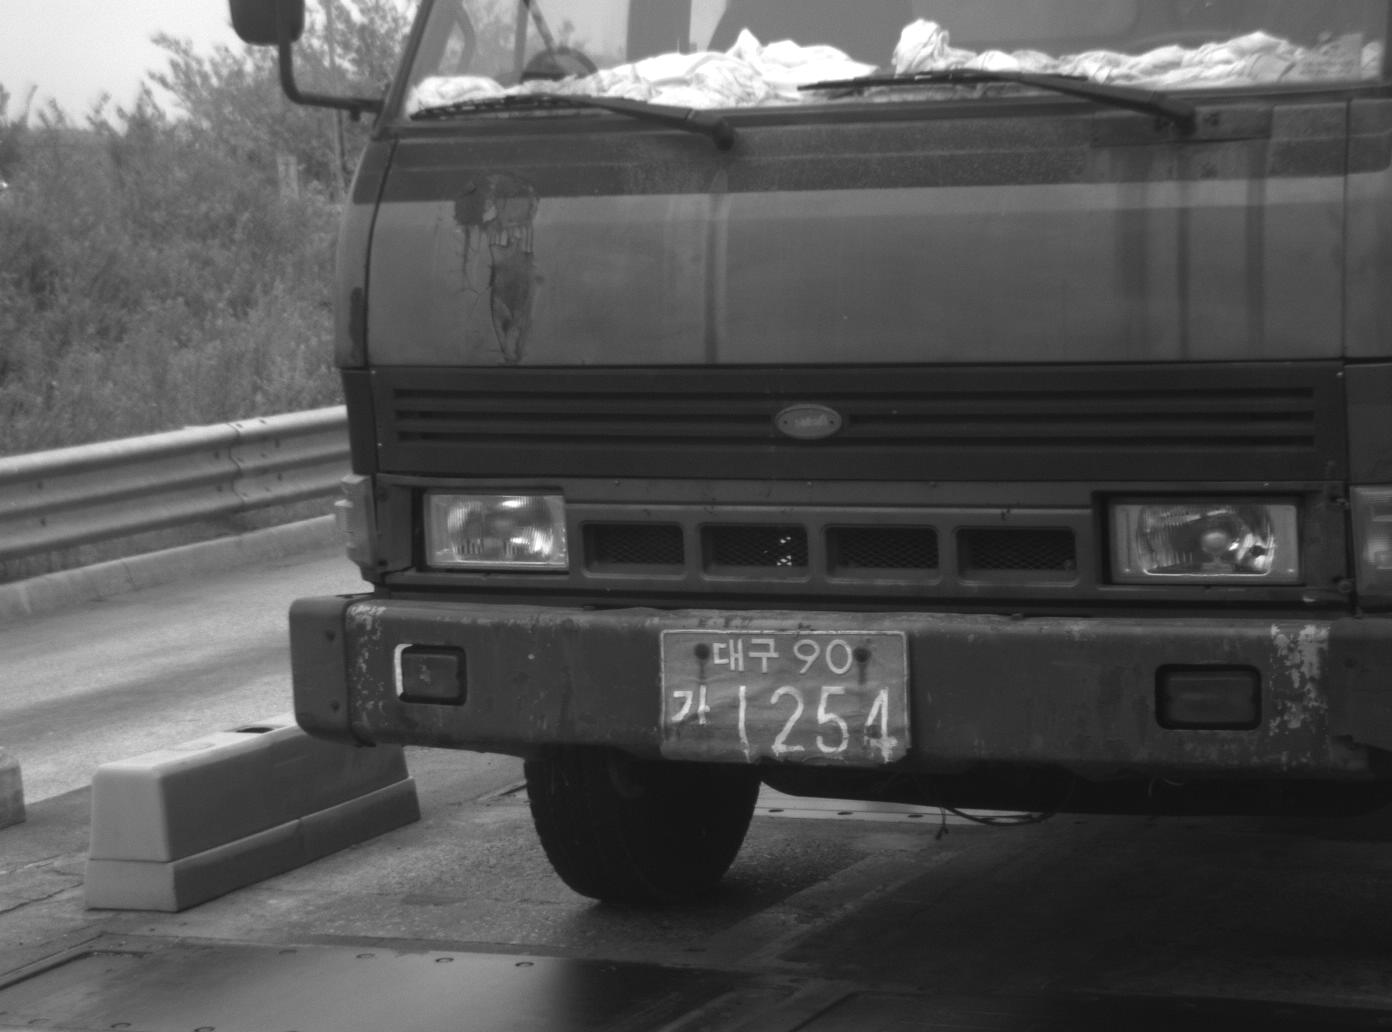car: (216, 1, 1390, 911)
plate: (654, 626, 915, 768)
